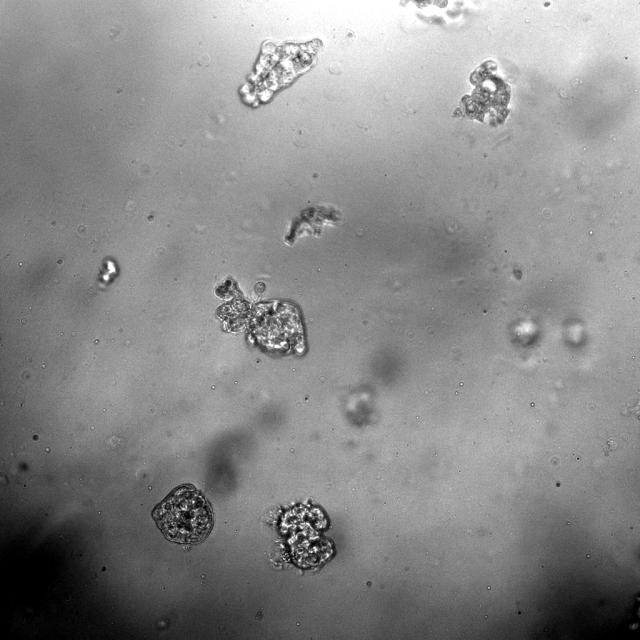organoid: (214, 276, 308, 355), (239, 38, 322, 108), (259, 498, 334, 571), (152, 483, 214, 545), (453, 59, 511, 125), (400, 0, 481, 32), (284, 204, 342, 245), (99, 257, 119, 288)
